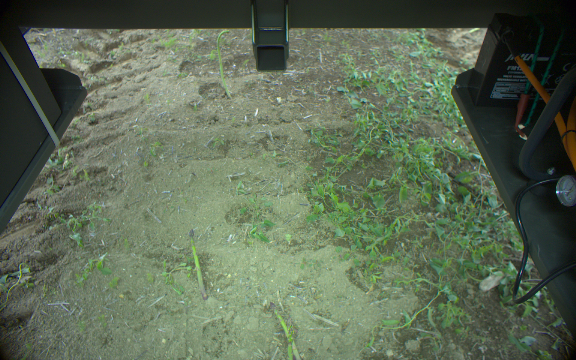aspa: (266, 302, 302, 360), (183, 229, 209, 303), (214, 29, 238, 98)
